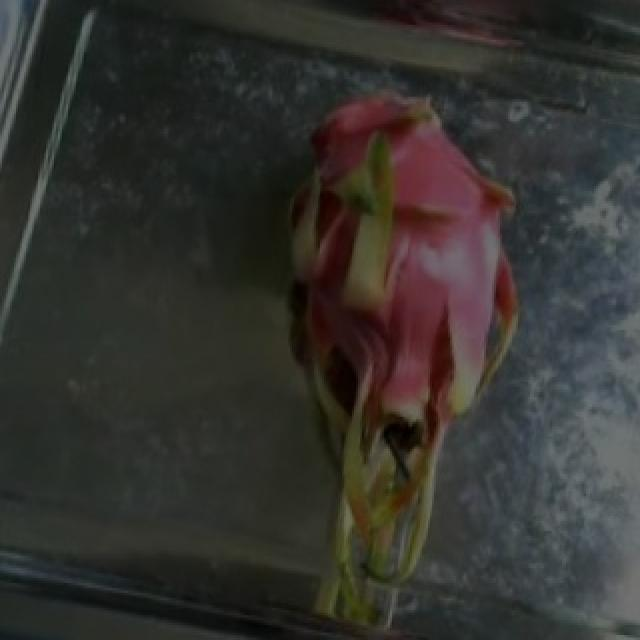fruit: (190, 47, 566, 499)
